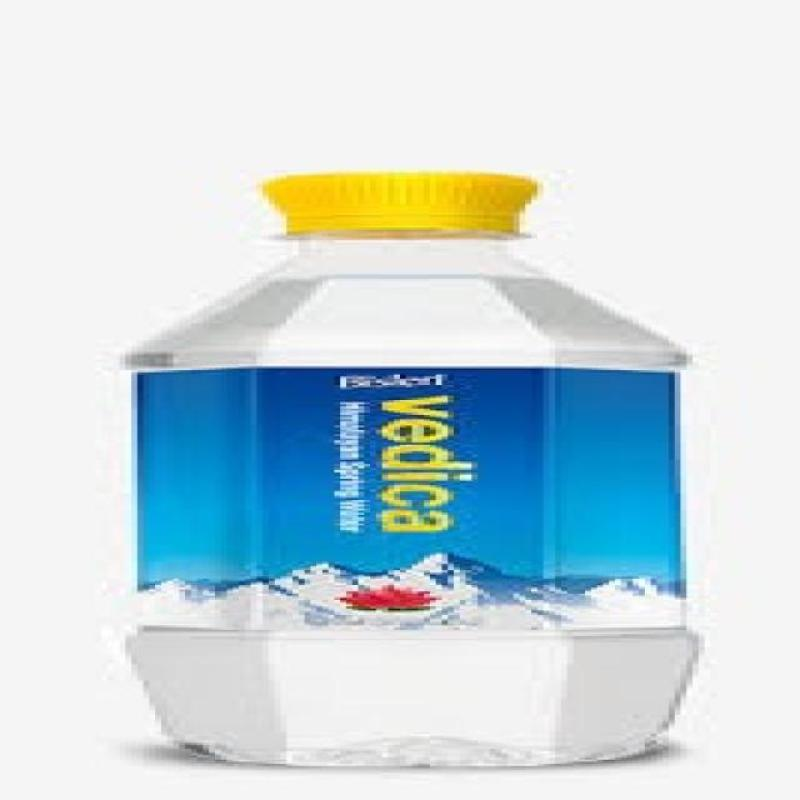botella: (128, 174, 690, 764)
